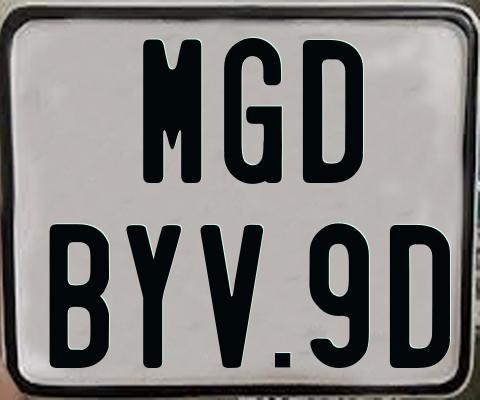9: (306, 220, 369, 366)
B: (46, 222, 108, 366)
D: (302, 40, 368, 189), (389, 225, 453, 374)
G: (222, 38, 280, 185)
M: (142, 39, 200, 186)
V: (198, 222, 264, 365)
Y: (123, 224, 181, 367)
